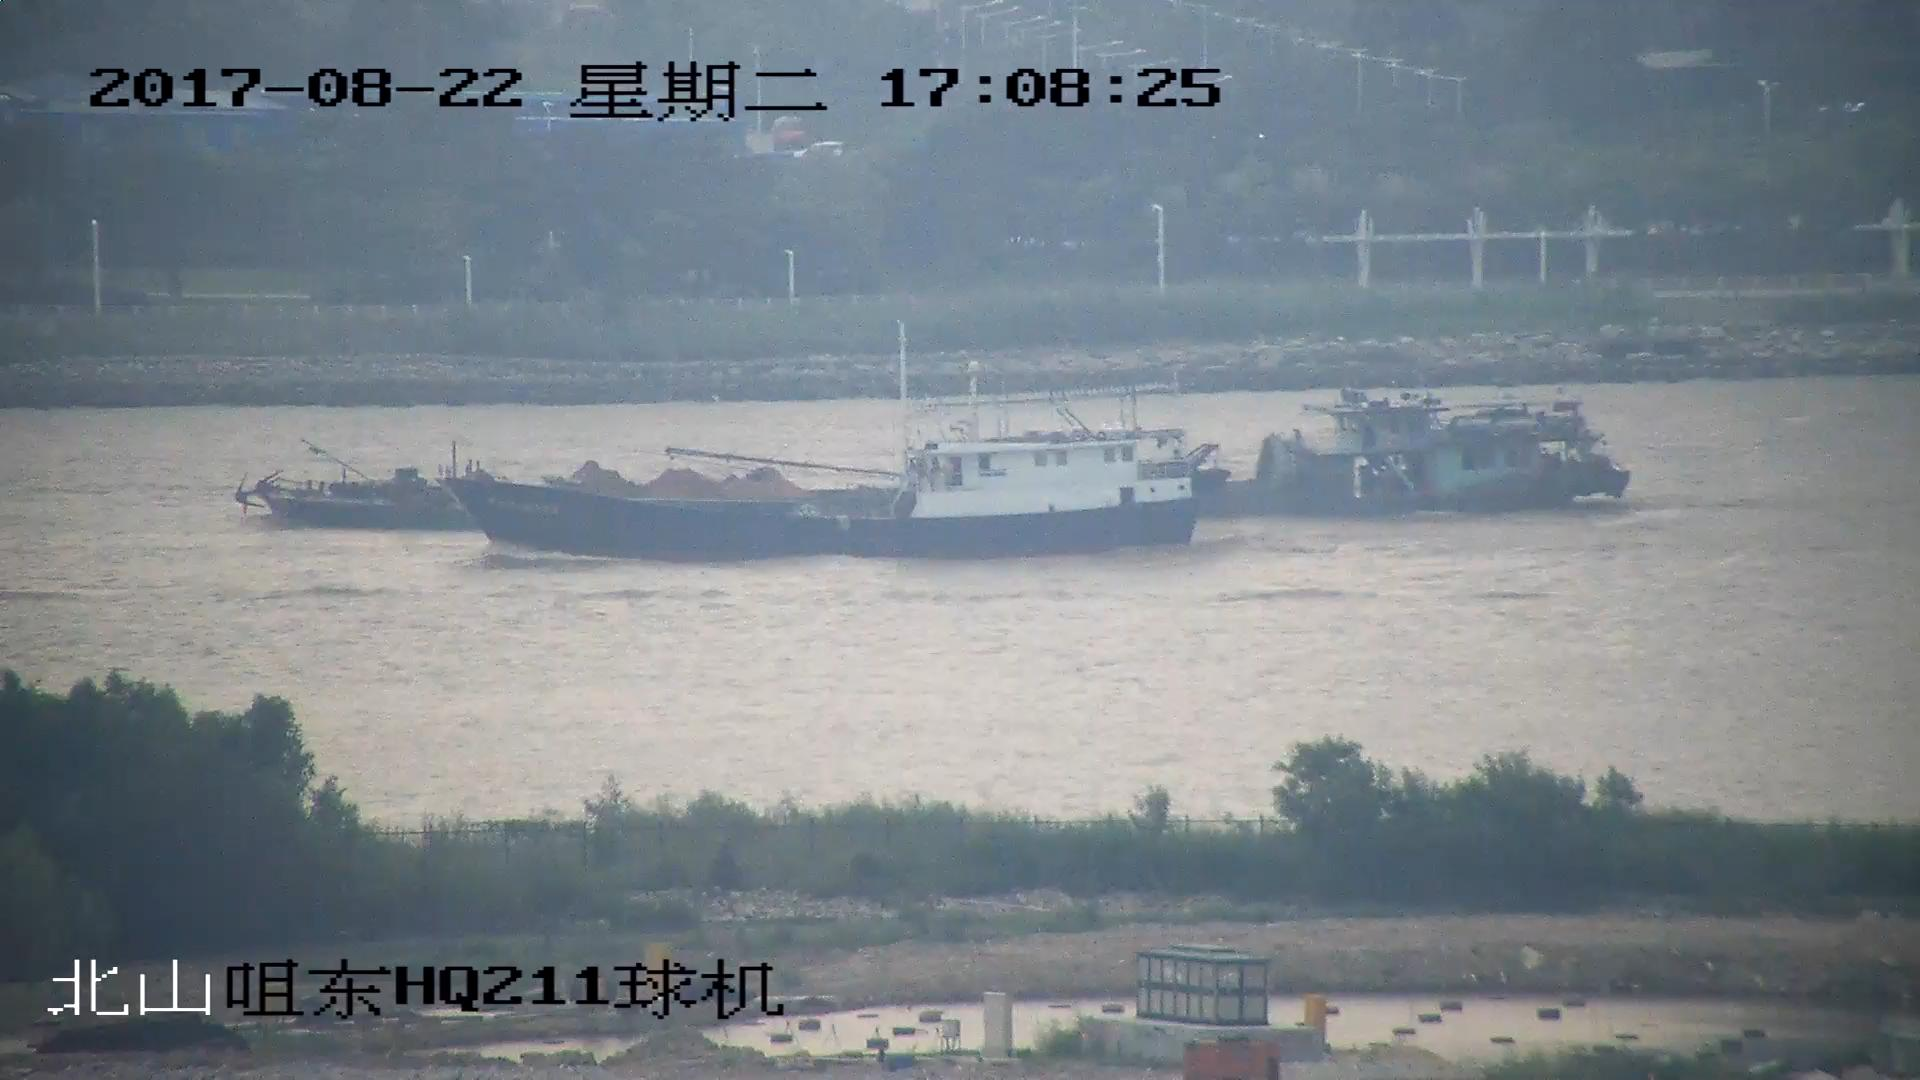fishing boat: (453, 371, 1197, 559)
ore carrier: (235, 391, 1629, 531)
